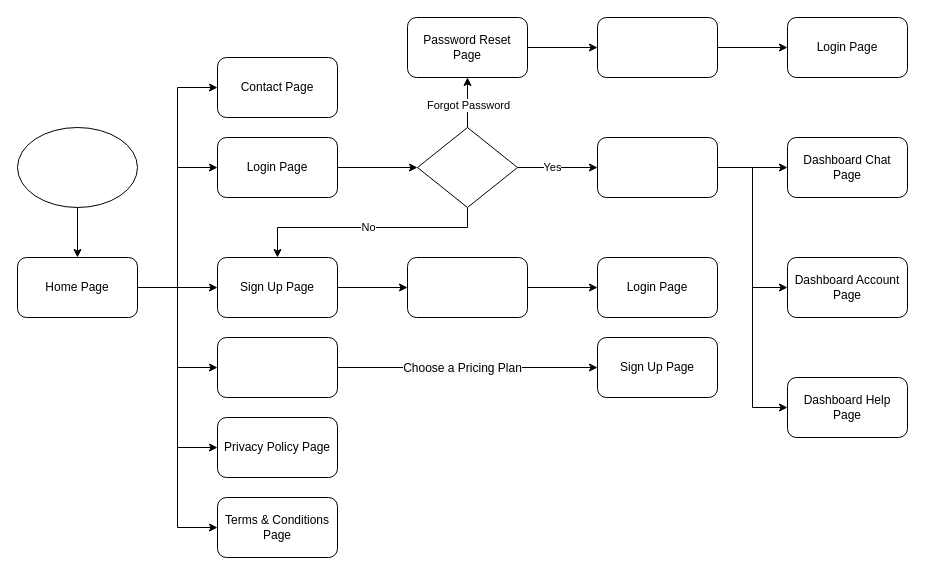
The diagram is 925 pixels wide and 575 high, and some of its shapes have lost their labels. The shapes that lost their labels are listed below. From the top down, each one's box as (x1, y1, x2, y2) in pixels, then its label:
(596, 16, 718, 78): Password Reset Confirmation Page
(16, 126, 138, 208): Start
(416, 126, 518, 208): Already a member?
(596, 136, 718, 198): Dashboard Page
(406, 256, 528, 318): Sign Up Confirmation Page
(216, 336, 338, 398): Pricing Page
